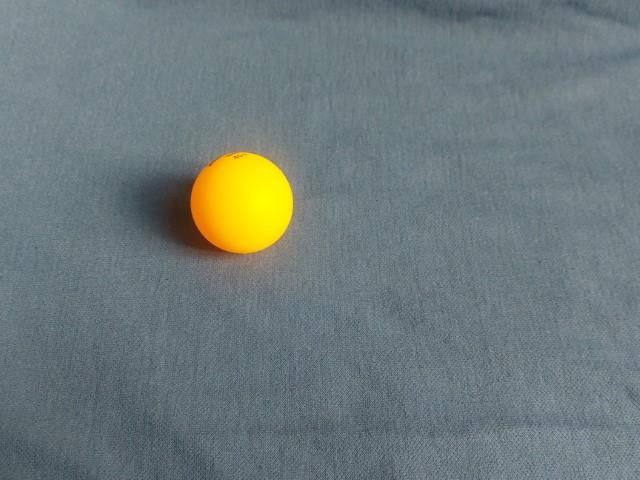oball: (186, 151, 295, 258)
